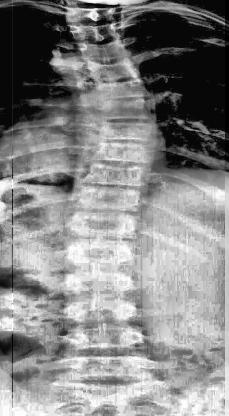Vertebrae: (60, 324, 144, 356), (60, 243, 140, 269), (67, 210, 140, 238), (62, 300, 142, 322), (64, 271, 136, 295), (76, 186, 146, 208), (98, 118, 156, 140), (98, 100, 156, 121), (88, 165, 154, 183), (78, 42, 134, 62), (98, 144, 160, 162), (97, 79, 152, 99), (88, 61, 144, 80), (70, 23, 124, 42), (66, 6, 122, 22)
